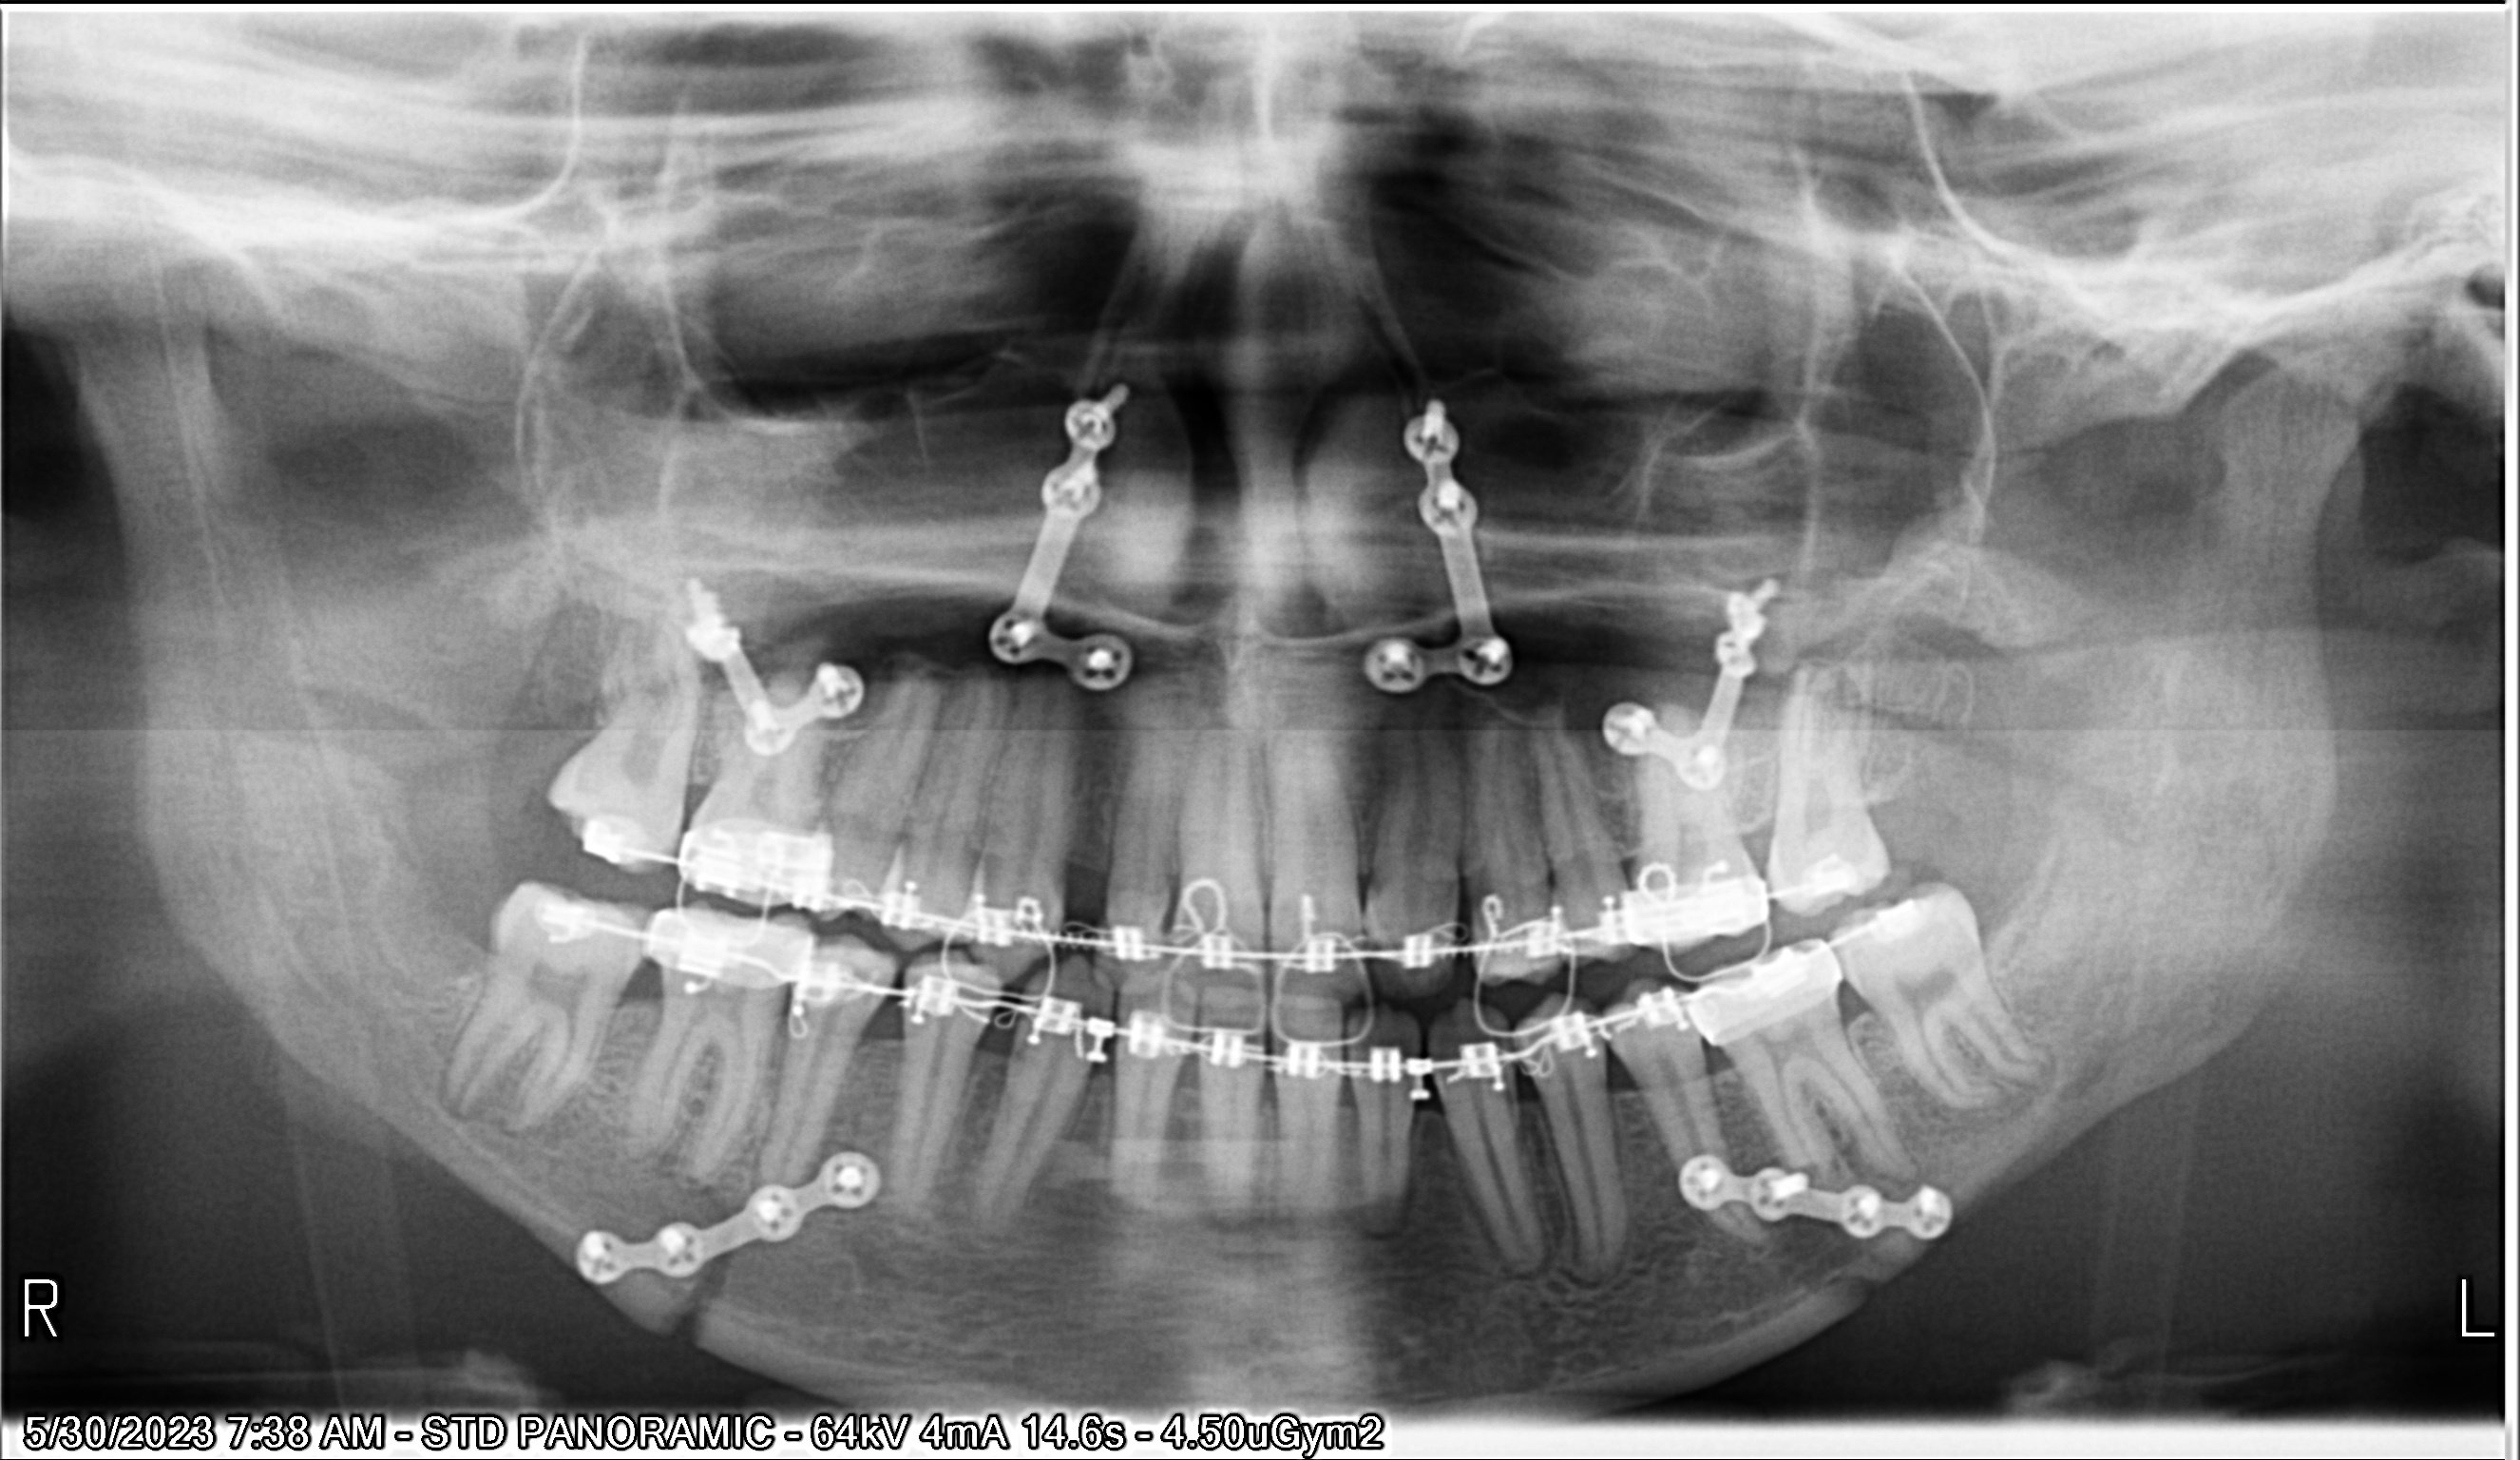ORD: (528, 836, 1933, 1102), (566, 751, 1893, 956)
SRD: (962, 351, 1179, 681), (556, 1156, 908, 1335), (1337, 384, 1525, 699), (1639, 1121, 1973, 1293), (1587, 556, 1780, 793), (643, 553, 865, 753)
